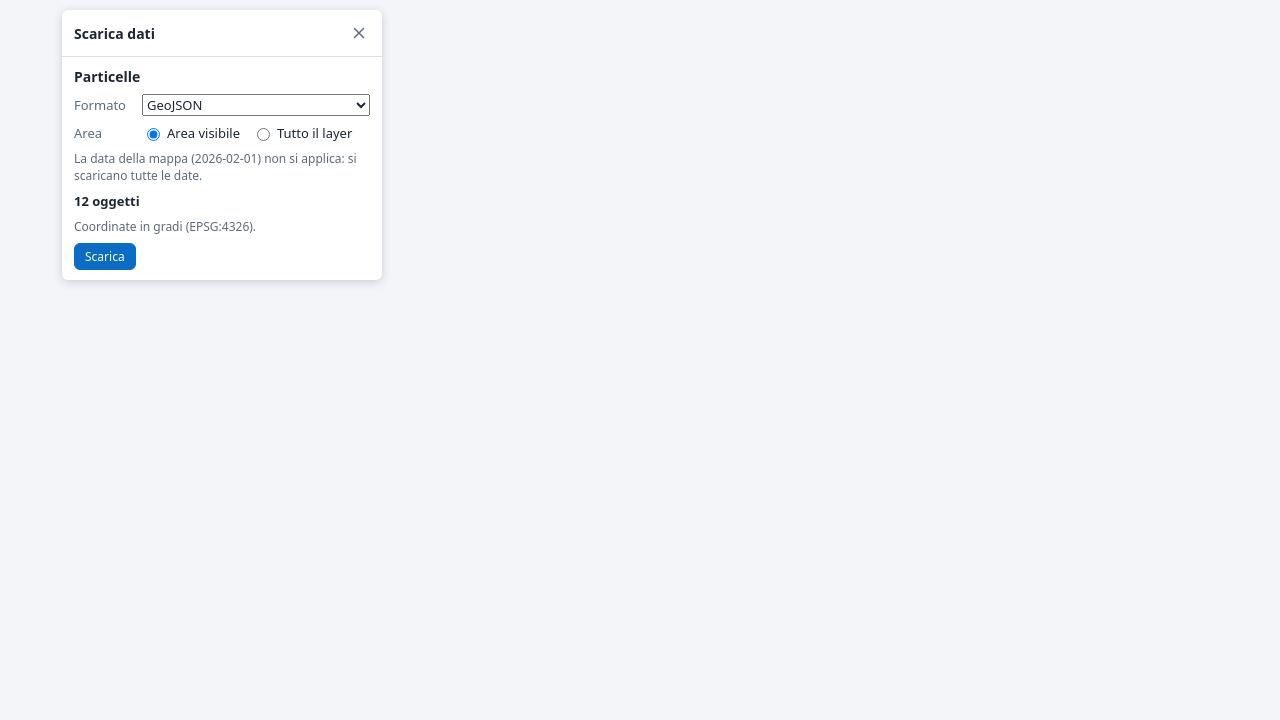
DownloadPanel: vettoriale › Shapefile nel formato di GeoServer; la data della mappa non va al WFS e il pannello lo dice
This screenshot has width=1280, height=720.
Check: the text "12 oggetti" is shown, box [74,192,140,210]
Select "Shapefile (zip)" in the dropdown labelled "Formato" at (256, 105), box [142,94,370,116]
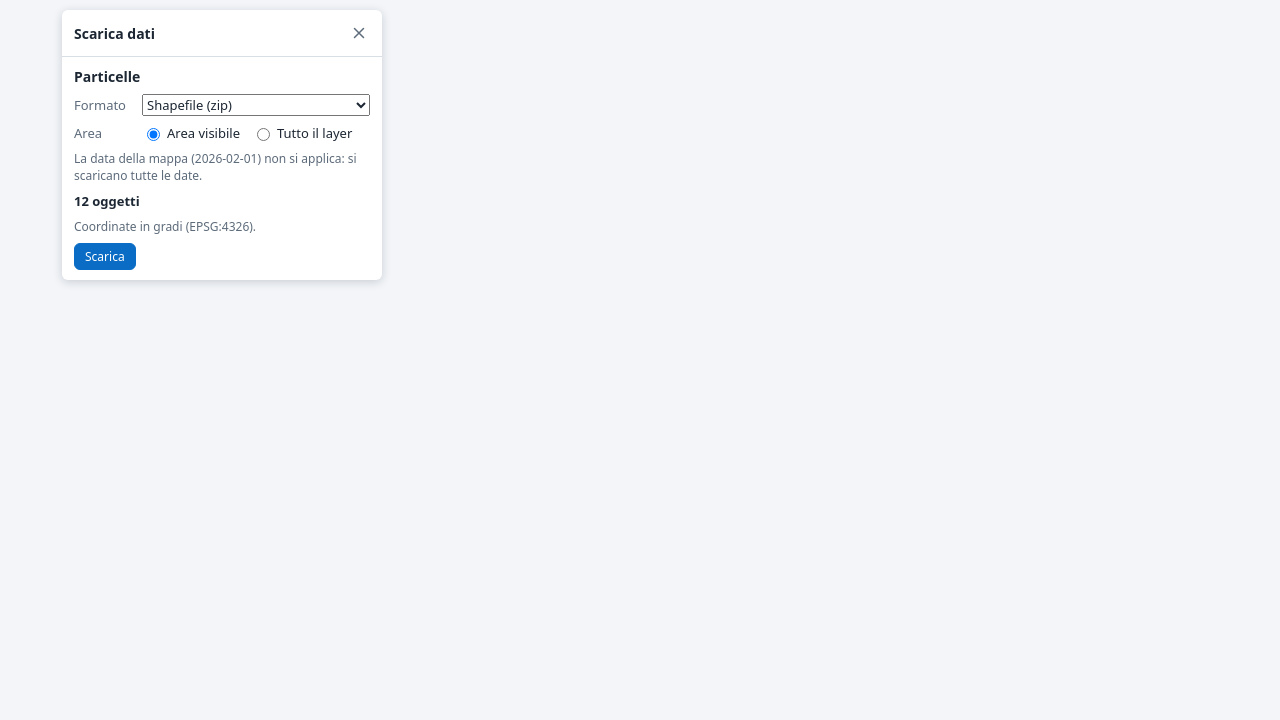
Click the button "Scarica" at (105, 256), box [74,243,136,270]
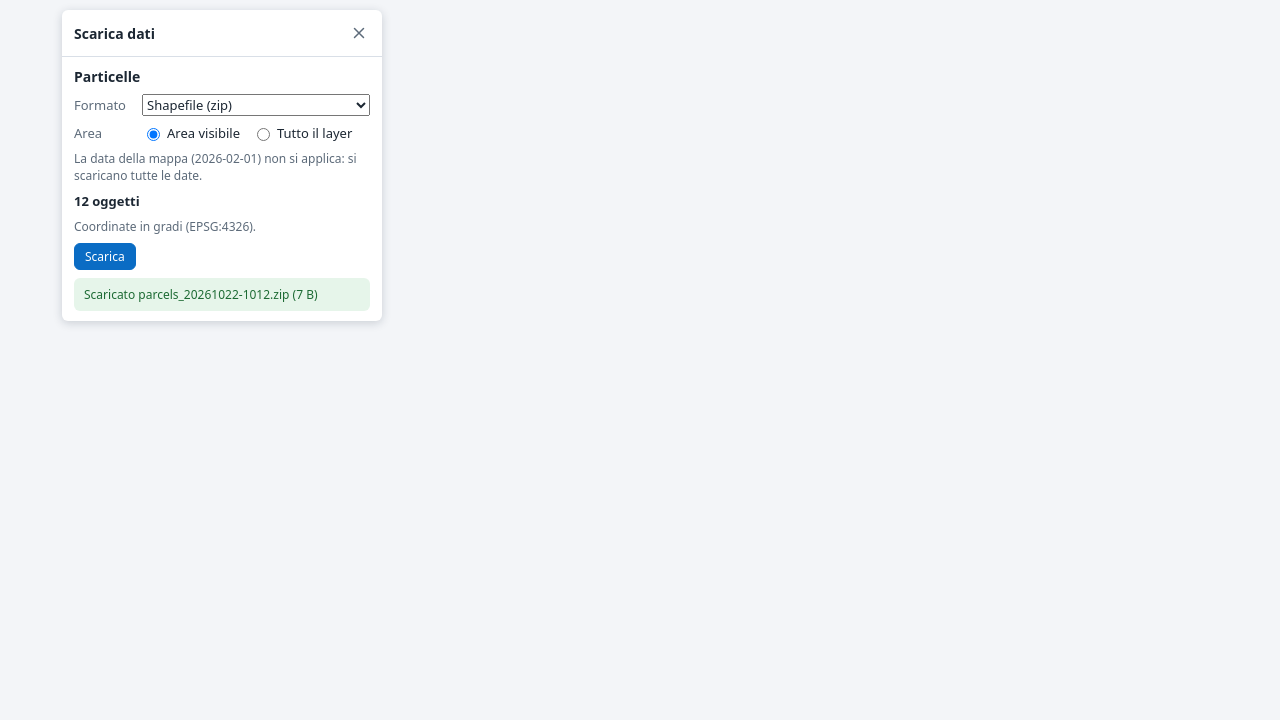
Check: the text "La data della mappa (2026-02-01) non si applica" is shown, box [74,150,370,184]
Check: the text "Scaricato parcels_20261022-1012.zip (7 B)" is shown, box [74,278,370,311]
